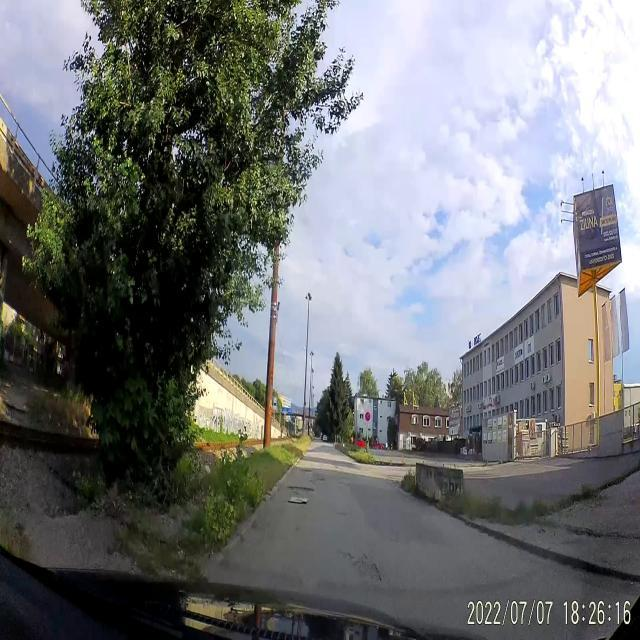Pothole: (342, 541, 385, 583), (282, 482, 316, 496), (300, 467, 312, 474), (318, 474, 324, 484)
